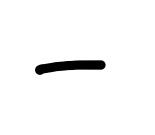minus: (35, 60, 106, 75)
